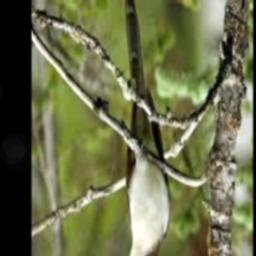Cuckoo: (123, 0, 170, 256)
